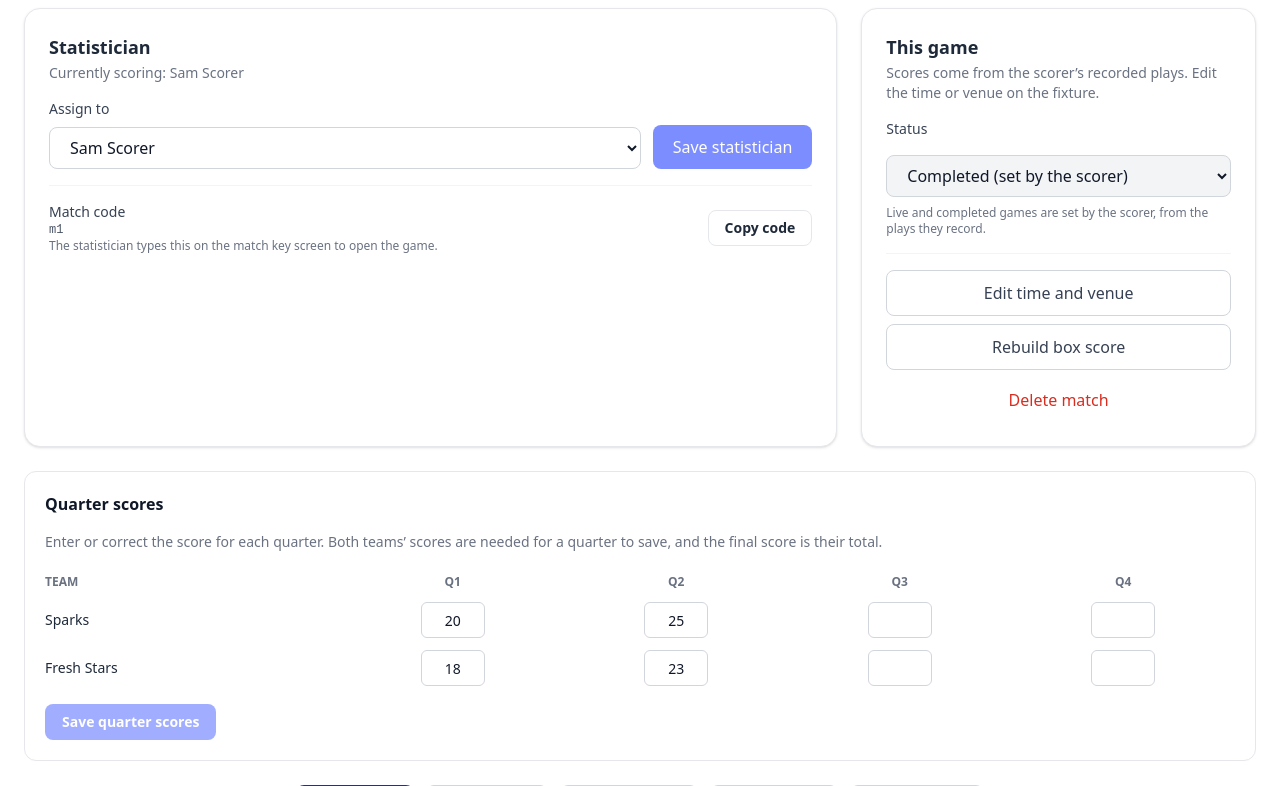
Scenario: Match: delete › needs the exact match label typed, and warns about a played game’s data
(page scrolled)
Click the button "Delete match" at x=1059, y=400, box [886,378,1231,422]
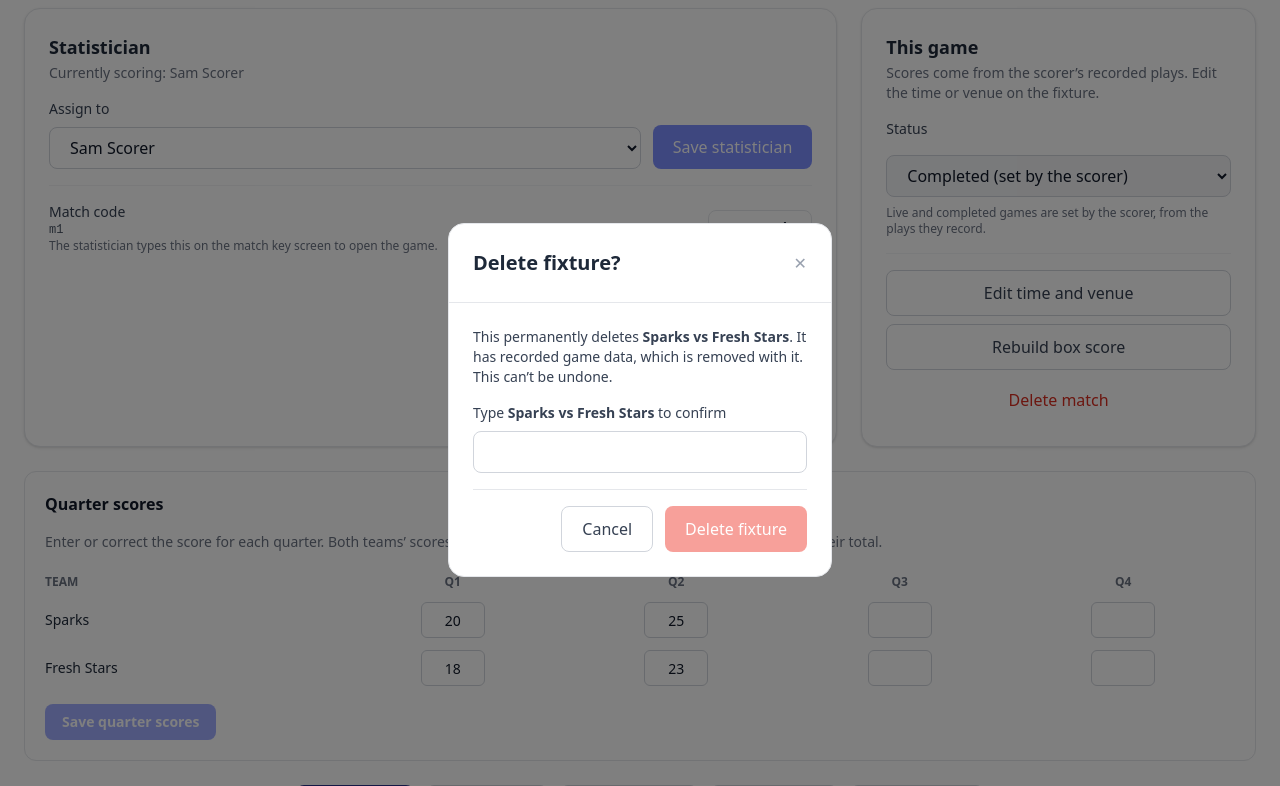
Result: the dialog "Delete fixture?" shows "recorded game data" at [473,327,806,366]
Result: the button "Delete fixture" is disabled at [665,506,807,552]
Type "Sparks vs Fresh Stars" into the field labelled "Type Sparks vs Fresh Stars to confirm" at x=640, y=452, box [473,431,807,473]
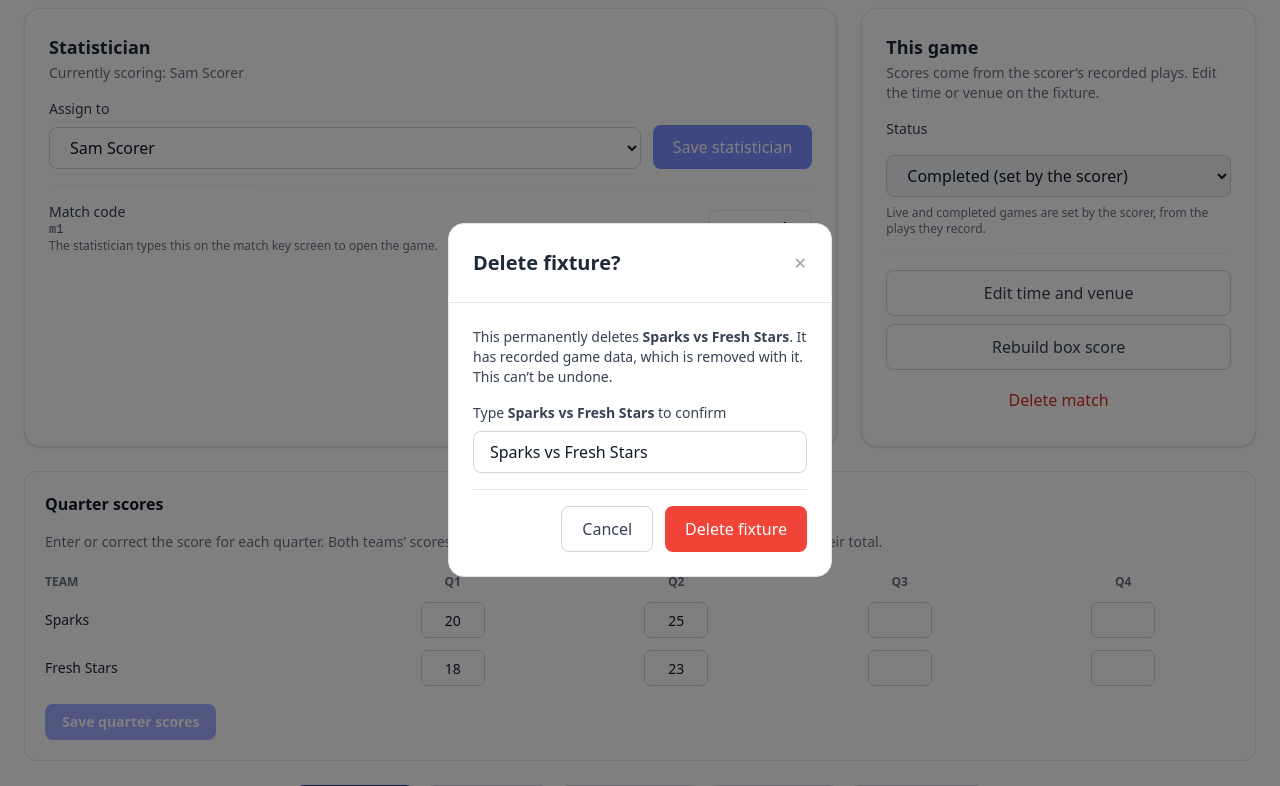
Result: the button "Delete fixture" is enabled at [665,506,807,552]
